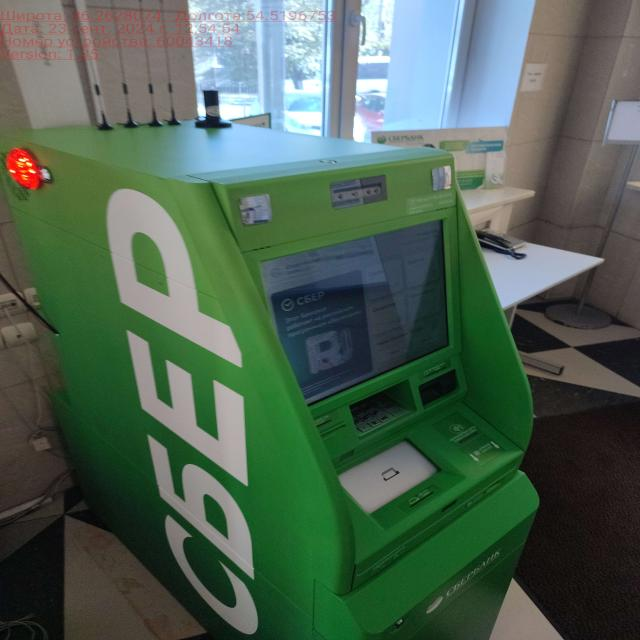bank: (0, 117, 553, 640)
